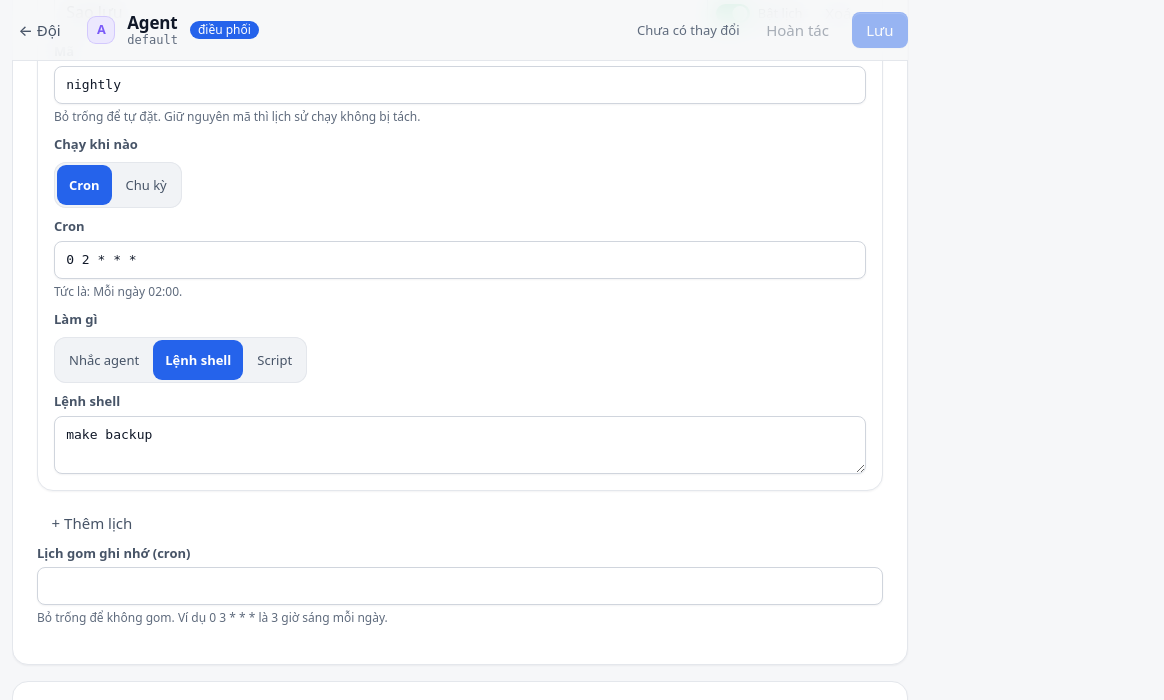
the skills a command row lists in its file › leave nothing to save once the row went to a script and came back
(page scrolled)
expect the text "Chưa có thay đổi" is shown: met, box 637,20 -> 740,40
expect the button "Lưu" is disabled: met, box 852,12 -> 908,48
Click the button "Script" at (275, 360), box 245,340 -> 304,380
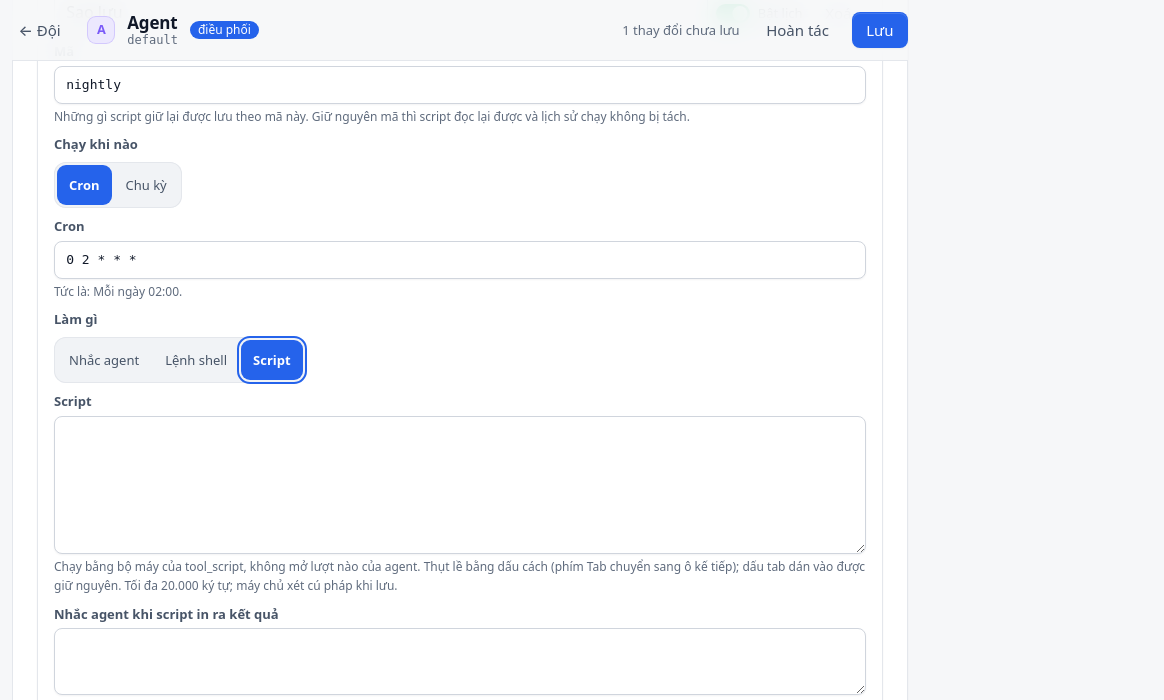
Click the button "Lệnh shell" at (196, 360), box 153,340 -> 239,380
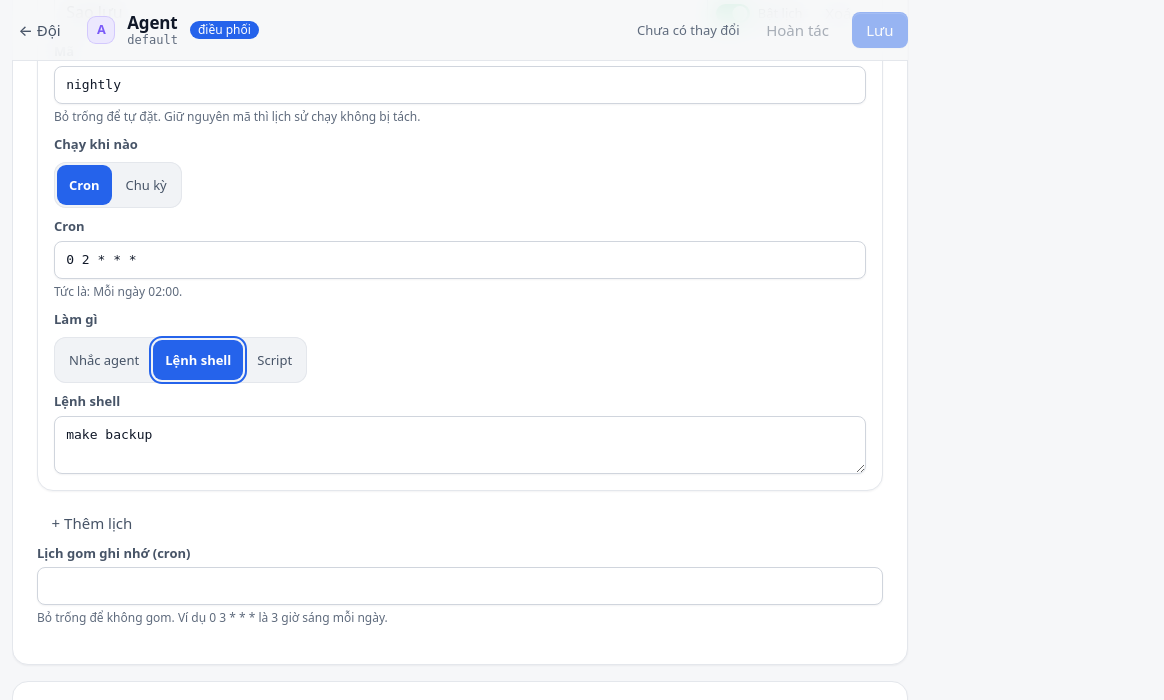
expect the text box labelled "Lệnh shell" holds "make backup": met, box 54,416 -> 866,474
expect the text "Chưa có thay đổi" is shown: met, box 637,20 -> 740,40
expect the button "Lưu" is disabled: met, box 852,12 -> 908,48
